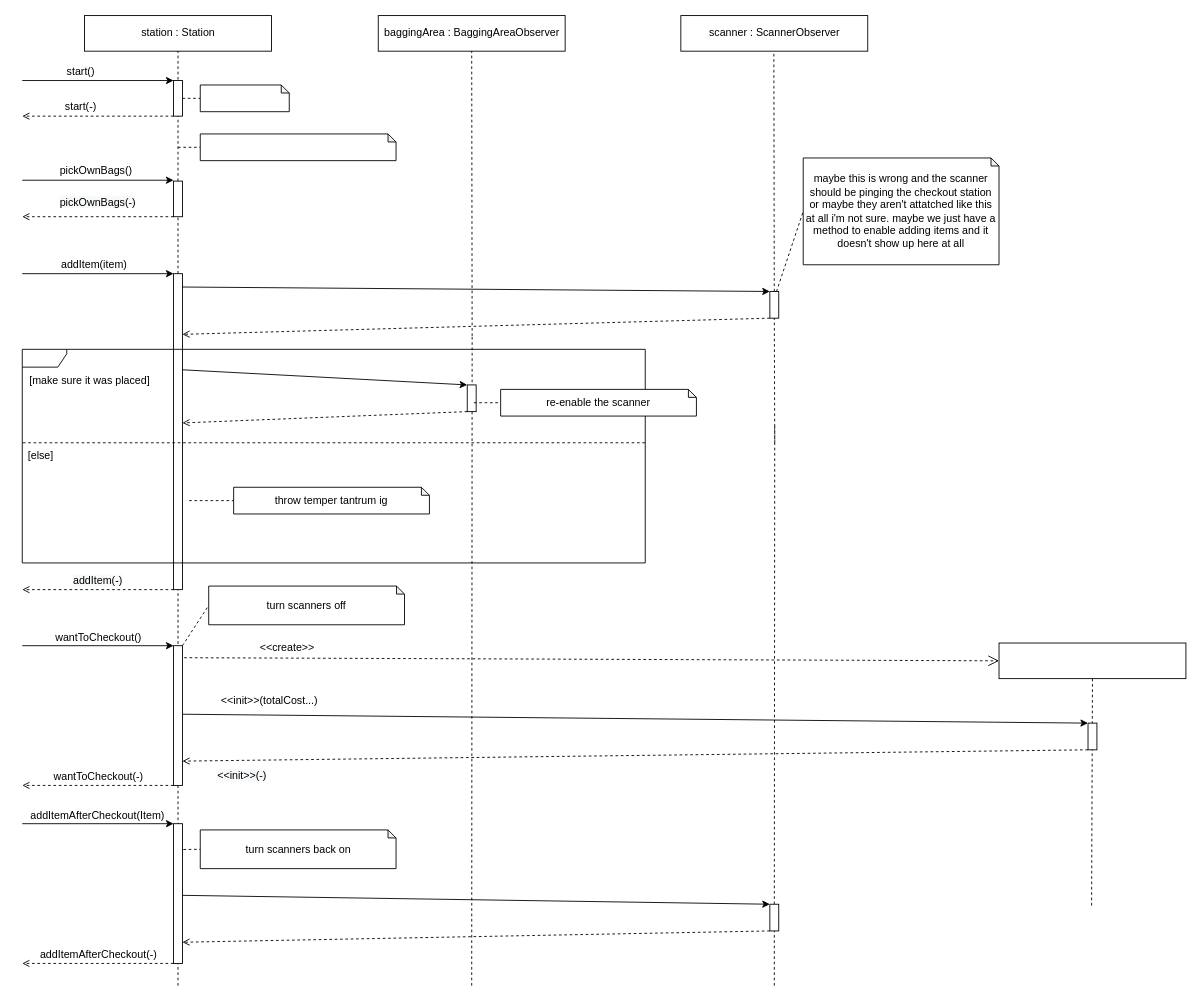
Image size: 1202x1002. Some labels were removed from this diagram. The box of each missing label's shape, as (x1, y1, x2, y2) in pixels:
alt: (21, 348, 645, 563)
checkout : Checkout: (998, 642, 1186, 679)
